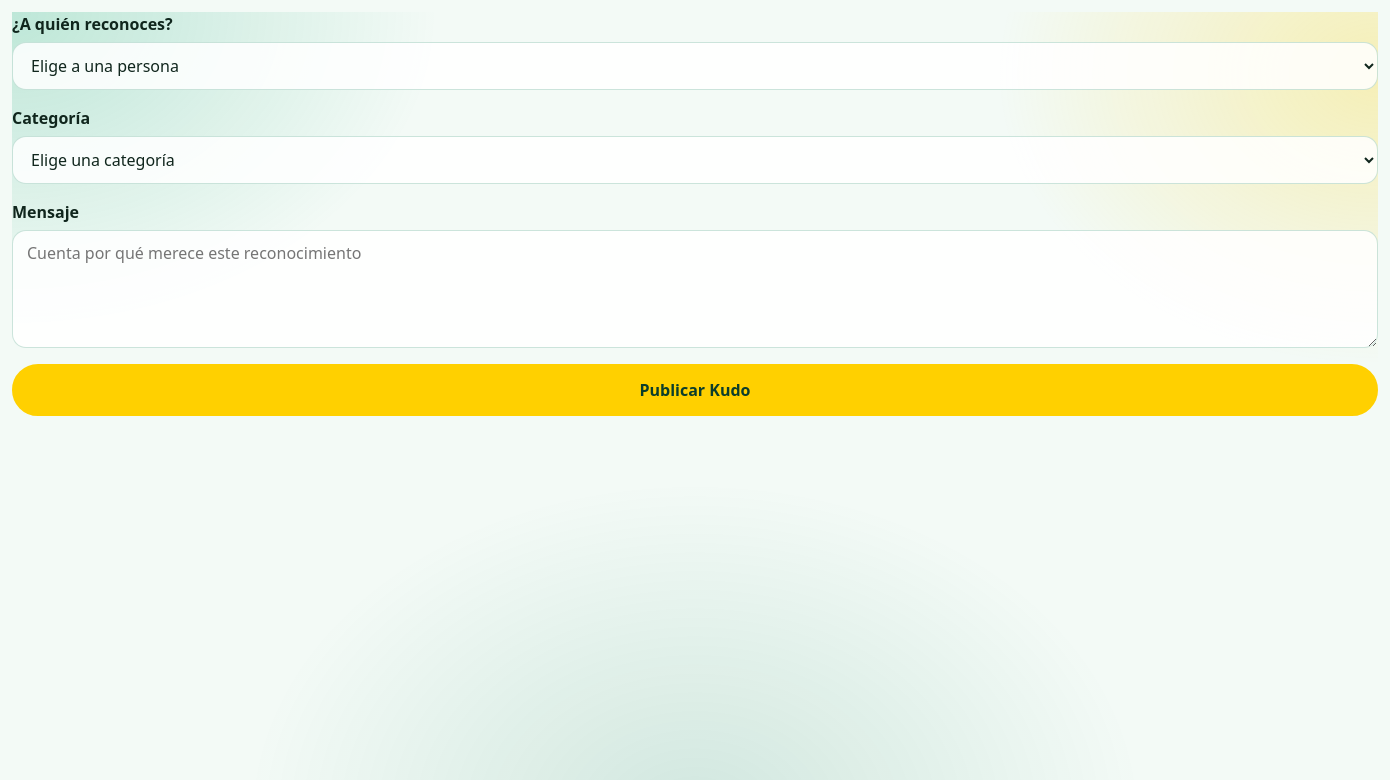
Scenario: FormularioDePublicacion › explica el rechazo AUTOR_ES_DESTINATARIO de la API
Select "Beto Estudiante" in the dropdown labelled "¿A quién reconoces?" at (695, 66), box [12,42,1378,90]
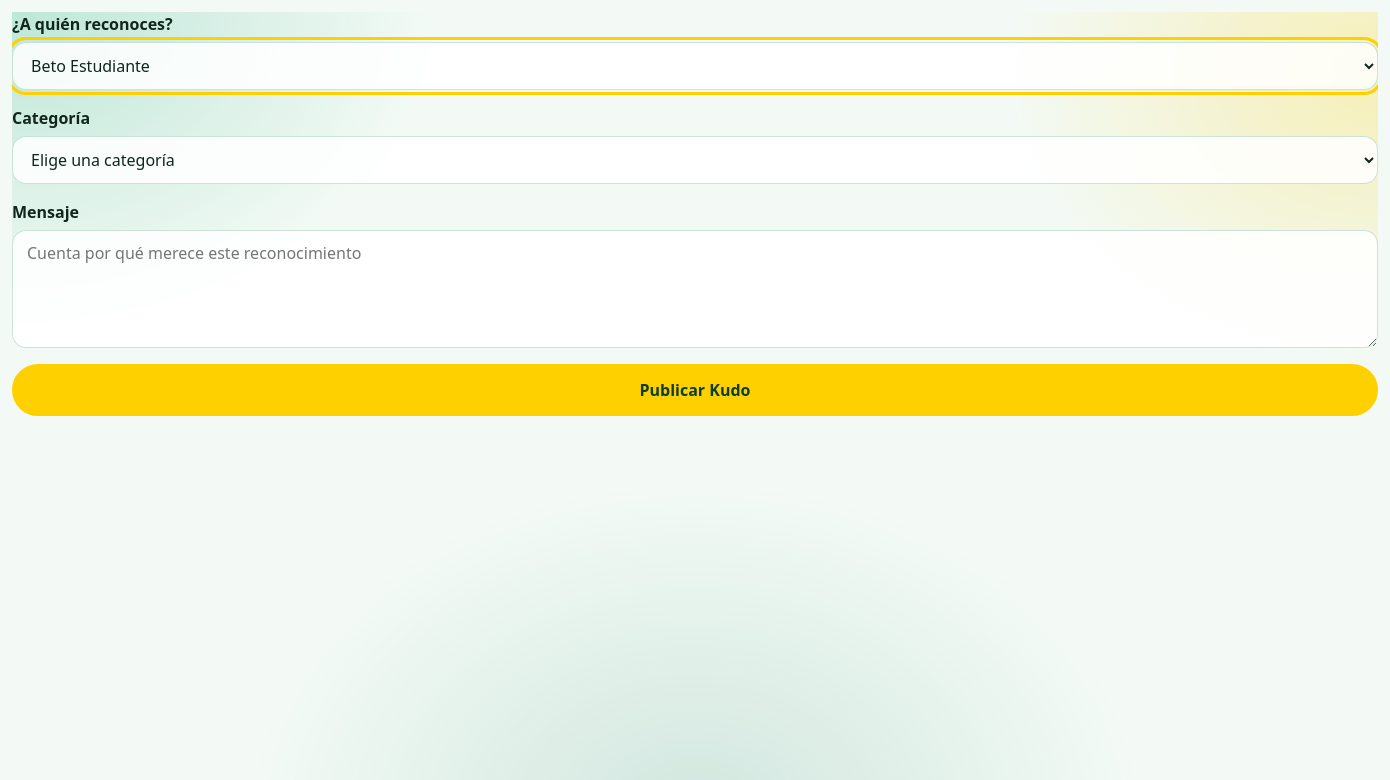
Select "Innovación" in the dropdown labelled "Categoría" at (695, 160), box [12,136,1378,184]
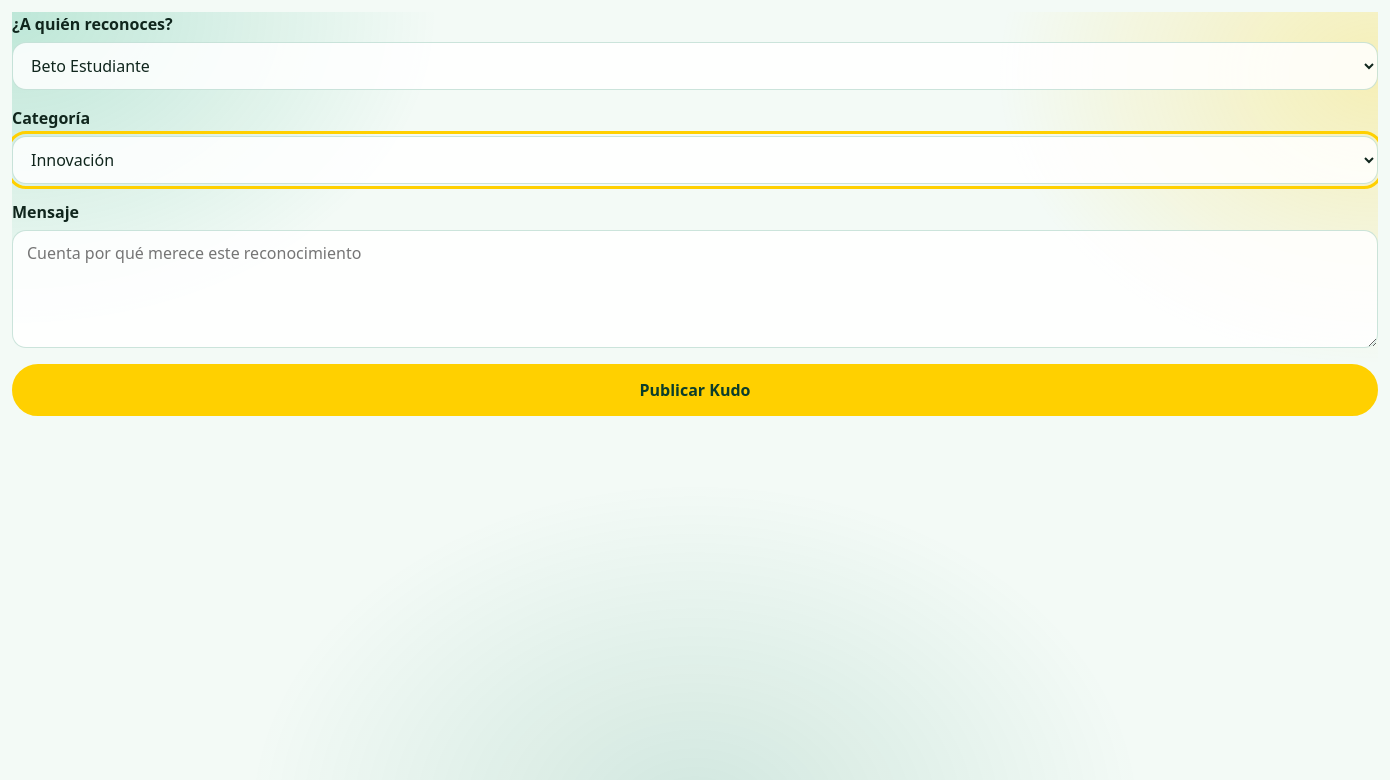
Type "Gracias por todo" into the text box labelled "Mensaje" at (695, 289), box [12,230,1378,348]
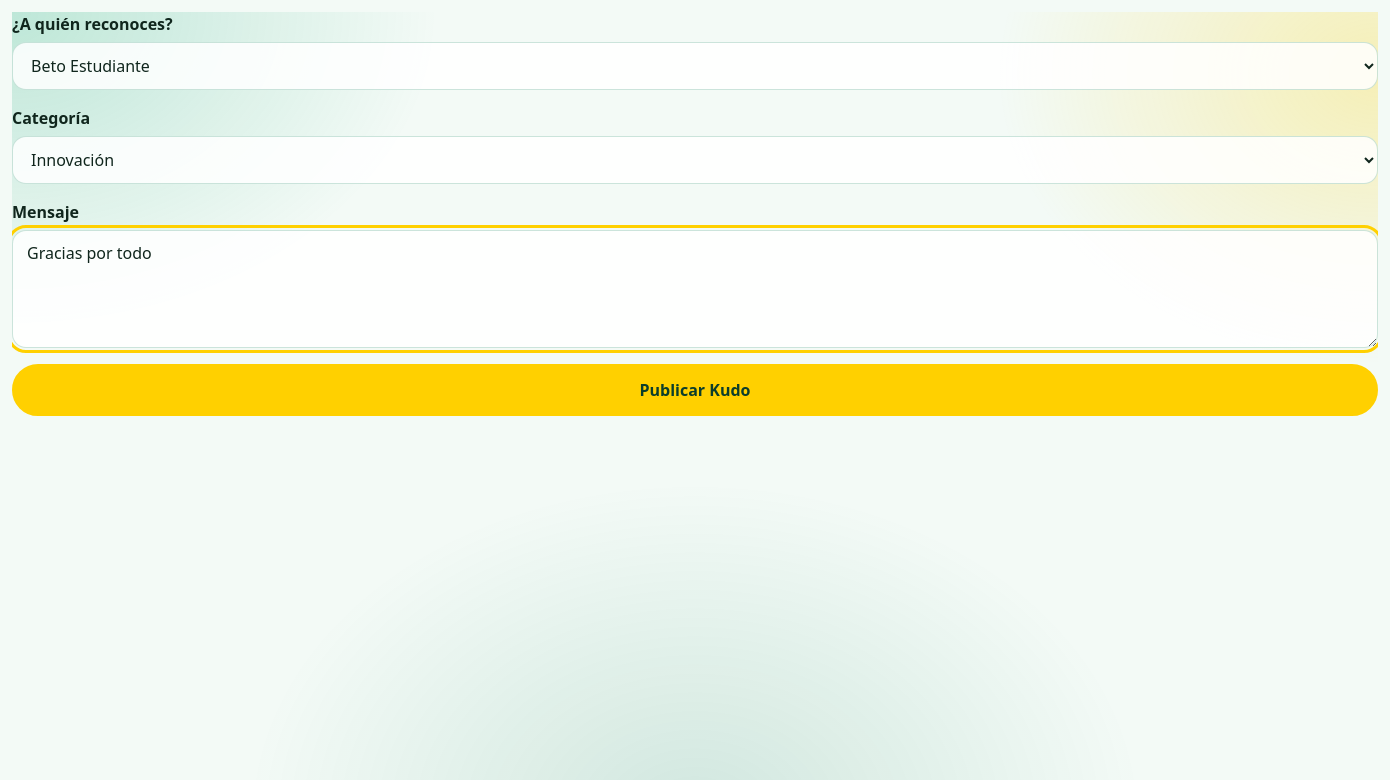
Click the button "Publicar Kudo" at (695, 390), box [12,364,1378,416]
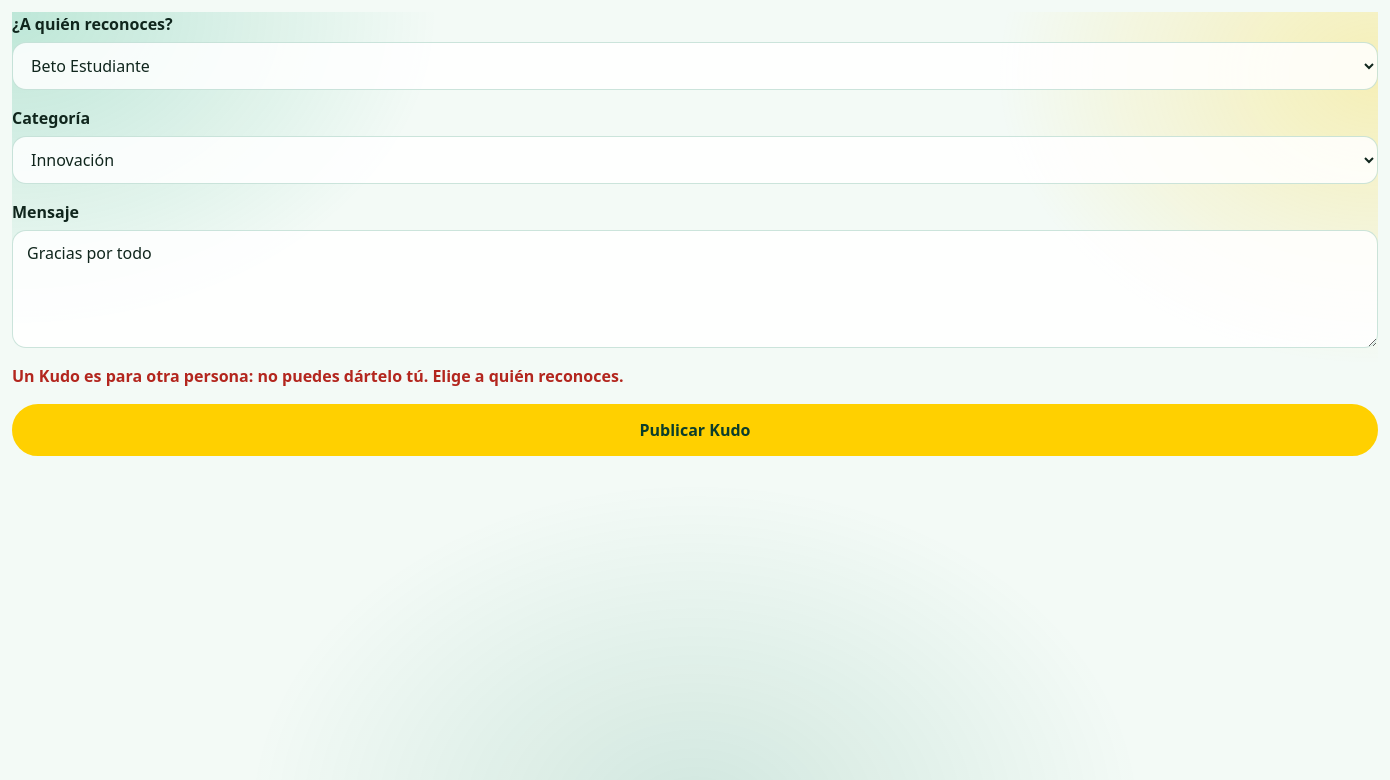
Result: the message shows "no puedes dártelo tú" at [12,365,624,387]
